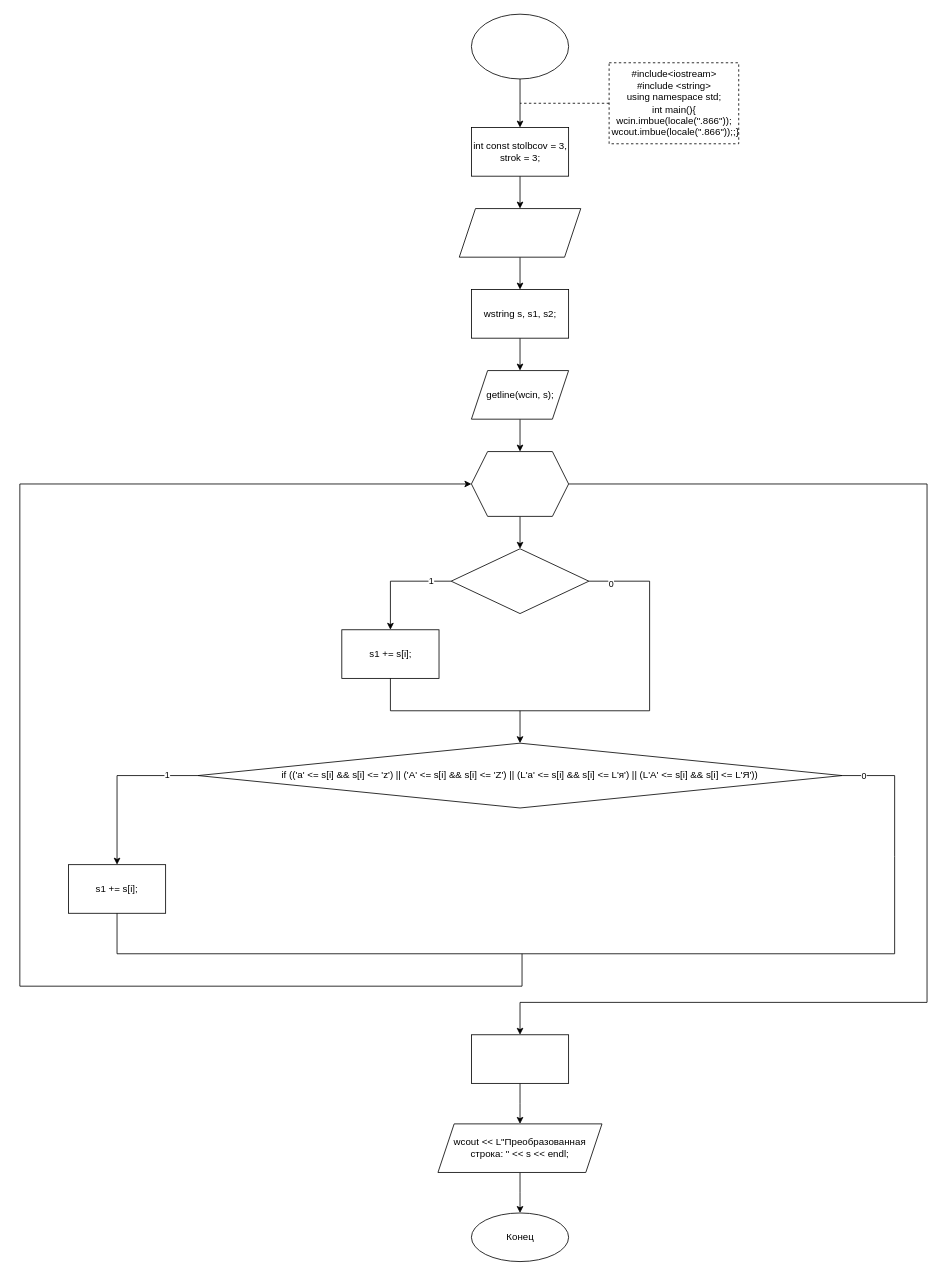
This 948x1276 diagram has some shape labels left out. The shapes that lost their labels are listed below. From the top down, each one's centre as x and y in pixels, then its label:
(x=520, y=46): Начало
(x=519, y=232): wcout << L"Введите строку: ";
(x=520, y=483): for (int i = 0; i <= s.length(); i++)
(x=519, y=581): if ('0' <= s[i] && s[i] <= '9')
(x=520, y=1058): s = s2 + s1;
